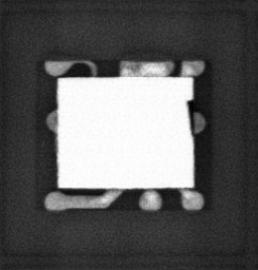DIE_BROKEN: (185, 97, 196, 138)
